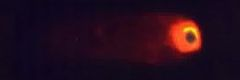keyhole: (184, 29, 198, 45)
